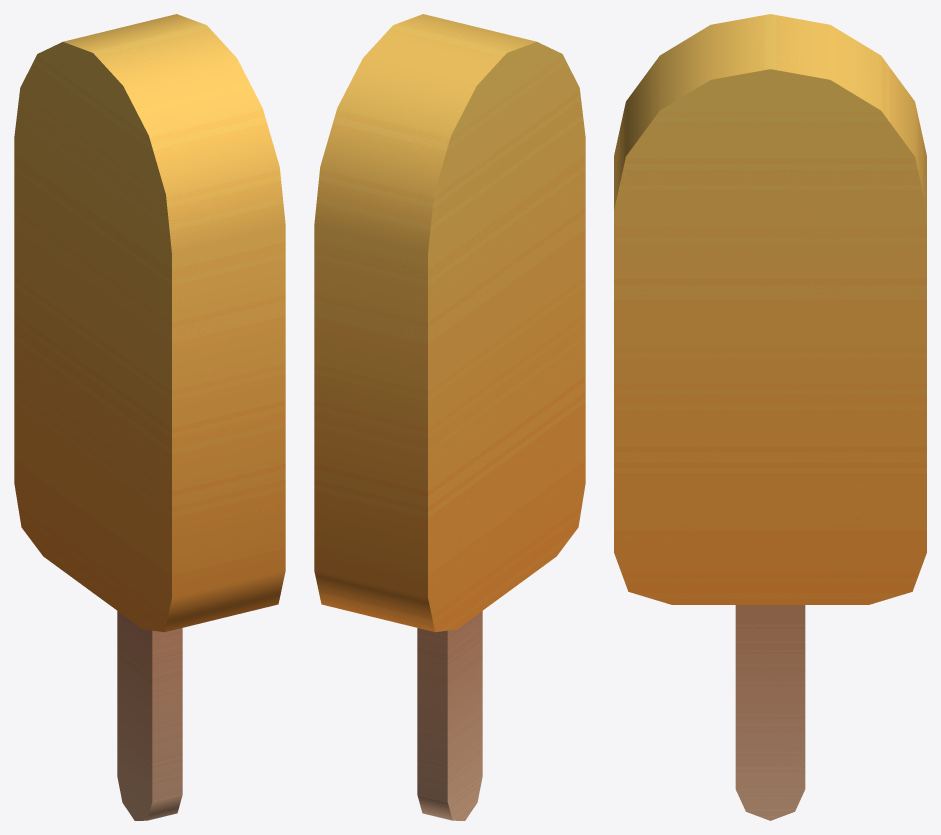
Rendered from food-popsicle.glb.
The picture shows the model from 3 angles, left to right: view 1: azimuth 30°, elevation 25°; view 2: azimuth 150°, elevation 25°; view 3: azimuth 270°, elevation 25°; orthographic projection.
Visible parts, largest first — view 1: popsicle; view 2: popsicle; view 3: popsicle.
Boxes of the visible parts, x1,y1,x2,y2 form: popsicle: (14, 14, 285, 820); popsicle: (314, 14, 585, 820); popsicle: (614, 14, 926, 820).
Size of the model in its own units: 0.075 by 0.49 by 0.18.
1 material, 1 textured.
